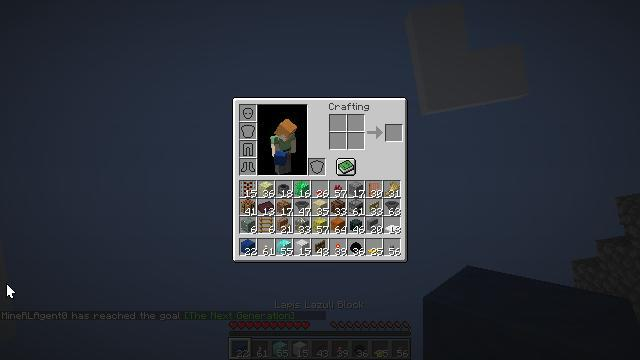cursor: (283, 6, 299, 16)
